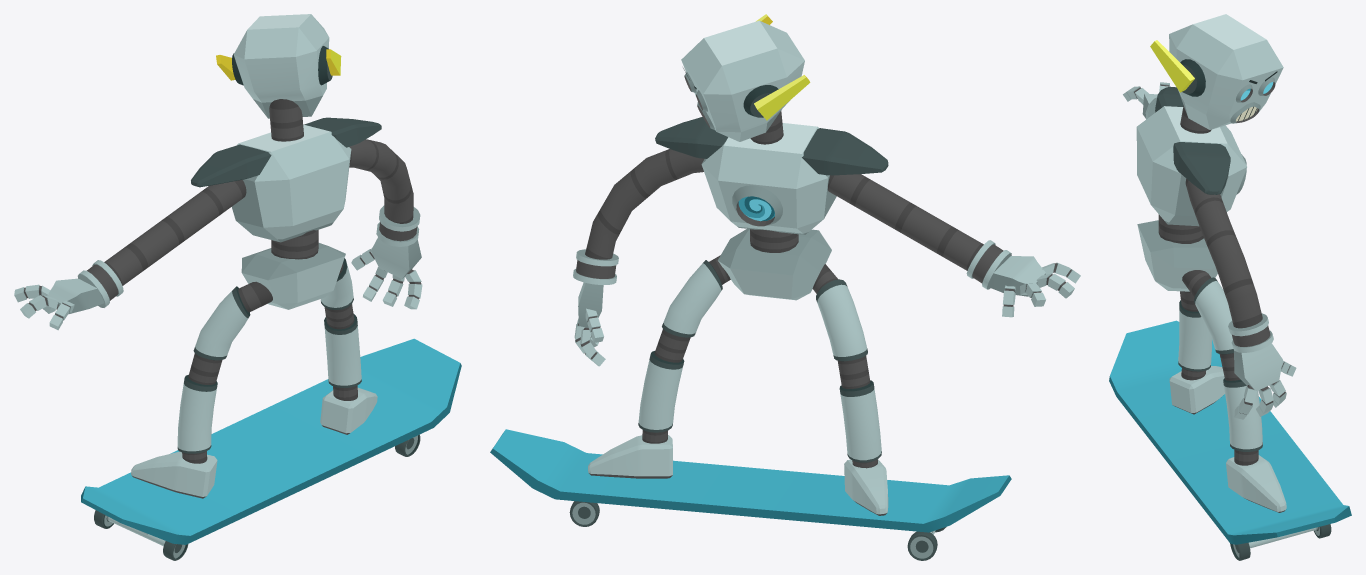
File: gir_skater_bot.glb
The picture shows the model from 3 angles, left to right: view 1: azimuth 30°, elevation 25°; view 2: azimuth 150°, elevation 25°; view 3: azimuth 270°, elevation 25°; orthographic projection. The views are drawn at different scales.
Visible parts, largest first — view 1: pCube108, pCube64, pCube109, pCylinder32, pCube57, pCylinder31, pCube61, pCube60, pCylinder30, pCylinder50; view 2: pCube108, pCube64, pCube109, pCylinder32, pCylinder31, pCube57, pCube60, pCube61, pCylinder30, pCylinder50; view 3: pCube64, pCube108, pCube109, pCylinder31, pCube57, pCylinder32, pCube60, pCube61, pCylinder30, pCylinder49.
Boxes of the visible parts, bbox=[...] form: pCube108: bbox=[14, 99, 422, 330]; pCube64: bbox=[81, 338, 461, 544]; pCube109: bbox=[216, 14, 341, 118]; pCylinder32: bbox=[177, 281, 272, 463]; pCube57: bbox=[241, 243, 345, 309]; pCylinder31: bbox=[320, 258, 361, 400]; pCube61: bbox=[131, 451, 217, 498]; pCube60: bbox=[320, 387, 377, 434]; pCylinder30: bbox=[271, 230, 318, 259]; pCylinder50: bbox=[94, 510, 188, 560]; pCube108: bbox=[573, 111, 1080, 366]; pCube64: bbox=[490, 429, 1011, 532]; pCube109: bbox=[681, 14, 810, 141]; pCylinder32: bbox=[812, 264, 881, 468]; pCylinder31: bbox=[638, 255, 730, 443]; pCube57: bbox=[718, 229, 831, 300]; pCube60: bbox=[588, 435, 672, 478]; pCube61: bbox=[844, 459, 888, 515]; pCylinder30: bbox=[750, 229, 798, 252]; pCylinder50: bbox=[907, 527, 946, 560]; pCube64: bbox=[1109, 320, 1351, 544]; pCube108: bbox=[1123, 82, 1296, 419]; pCube109: bbox=[1150, 14, 1283, 129]; pCylinder31: bbox=[1182, 270, 1262, 465]; pCube57: bbox=[1137, 220, 1217, 291]; pCylinder32: bbox=[1178, 291, 1211, 380]; pCube60: bbox=[1226, 455, 1286, 512]; pCube61: bbox=[1169, 366, 1224, 414]; pCylinder30: bbox=[1158, 214, 1203, 243]; pCylinder49: bbox=[1230, 524, 1331, 560].
Size of the model in its own units: 17.32 by 15.93 by 7.44.
Materials: 1 (1 with a texture image).
